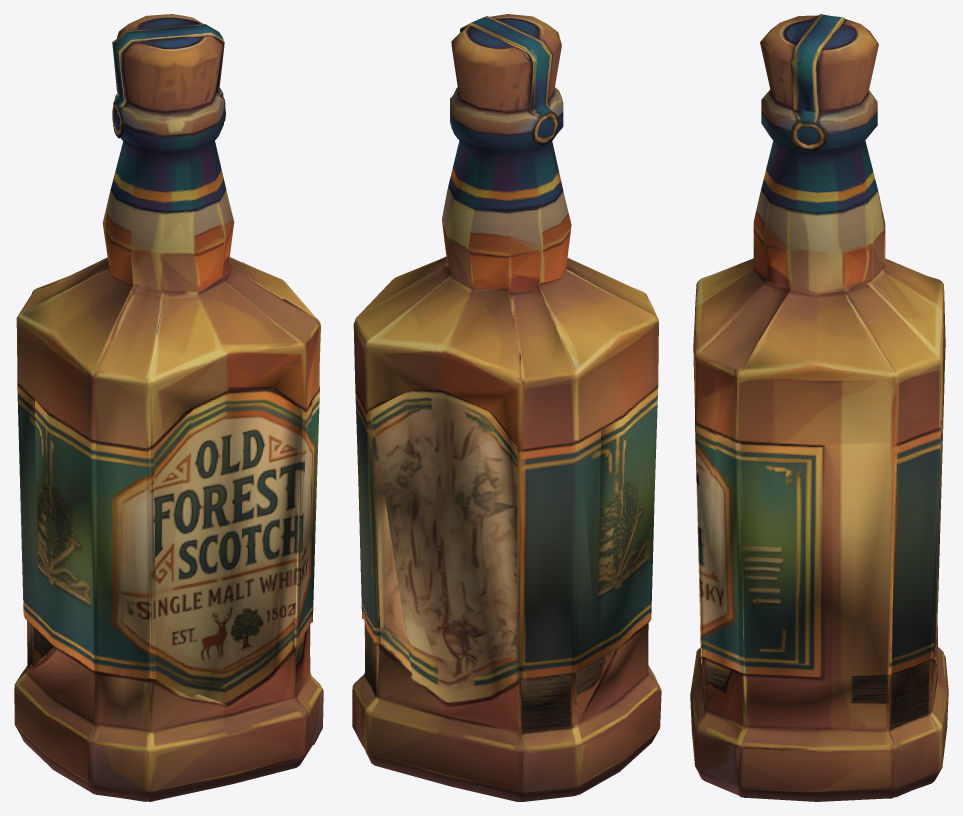
Rendered from 019ed19a-bb8d-71ed-95e2-5bcfb5b1c18e.glb.
The picture shows the model from 3 angles, left to right: view 1: azimuth 30°, elevation 25°; view 2: azimuth 150°, elevation 25°; view 3: azimuth 270°, elevation 25°; orthographic projection.
Parts seen in each view (by area): view 1: tripo_node_ce026bc4-d5f3-4aeb-a9f6-8f845568e310; view 2: tripo_node_ce026bc4-d5f3-4aeb-a9f6-8f845568e310; view 3: tripo_node_ce026bc4-d5f3-4aeb-a9f6-8f845568e310.
Part boxes in pixels (left/top/right/bottom): tripo_node_ce026bc4-d5f3-4aeb-a9f6-8f845568e310: left=14, top=14, right=323, bottom=801; tripo_node_ce026bc4-d5f3-4aeb-a9f6-8f845568e310: left=352, top=14, right=661, bottom=801; tripo_node_ce026bc4-d5f3-4aeb-a9f6-8f845568e310: left=690, top=14, right=948, bottom=801.
Bounding box in the file's own units: 0.3574 × 0.998 × 0.3262.
Materials: 1 (1 with a texture image).
